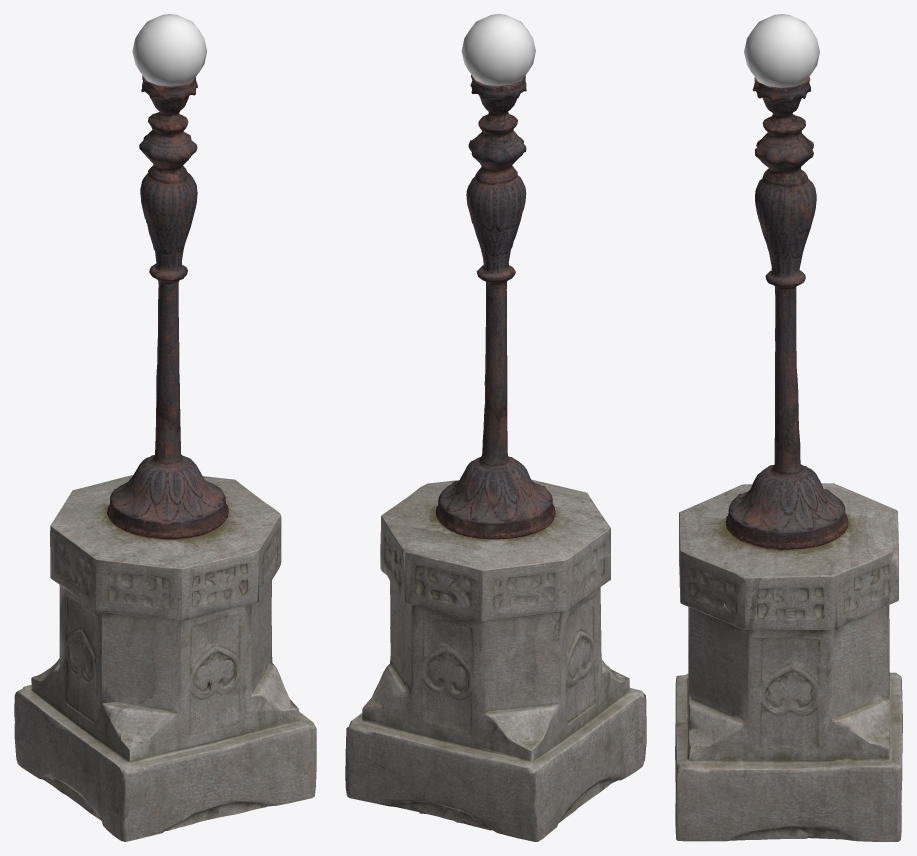
The model's file is SM_Lamp04A.fbx.
3 views of the same model, side by side, from view 1: azimuth 30°, elevation 25°; view 2: azimuth 150°, elevation 25°; view 3: azimuth 270°, elevation 25° (orthographic). The views are drawn at different scales.
Visible parts, largest first — view 1: SM_Lamp04A; view 2: SM_Lamp04A; view 3: SM_Lamp04A.
Boxes of the visible parts, x1,y1,x2,y2 form: SM_Lamp04A: (14, 14, 316, 841); SM_Lamp04A: (345, 14, 646, 841); SM_Lamp04A: (675, 14, 902, 841).
Bounding box in the file's own units: 60.86 × 60.61 × 228.
